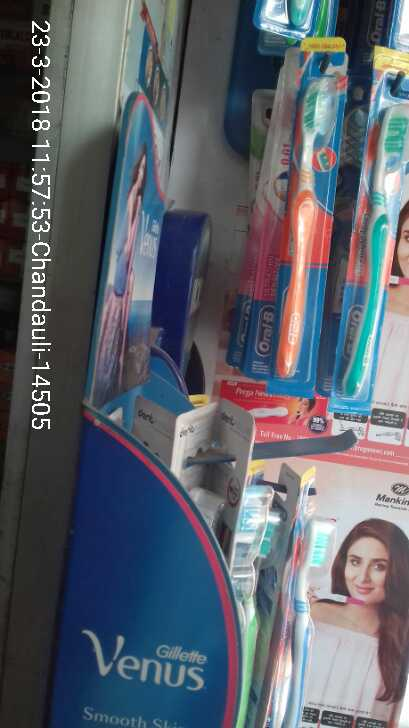oralb: (340, 83, 407, 407), (276, 48, 329, 389)
